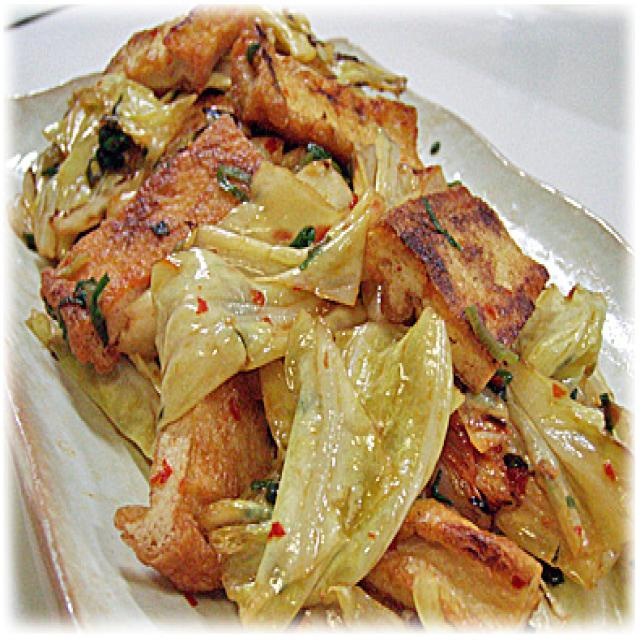蔬菜料理: (3, 13, 624, 618)
